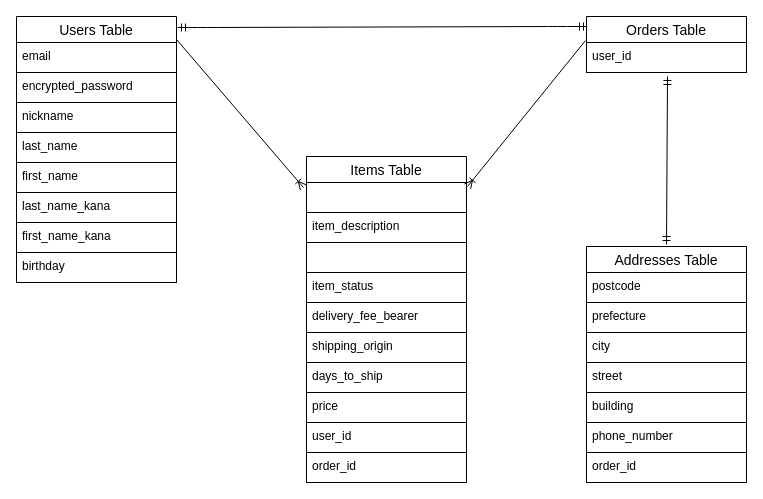
Image size: 763x499. Some labels were removed from this diagram. Here are the shapes that lost their labels. From the top down, the centre of each, then its label:
(386,197): item_name
(386,257): item_category
